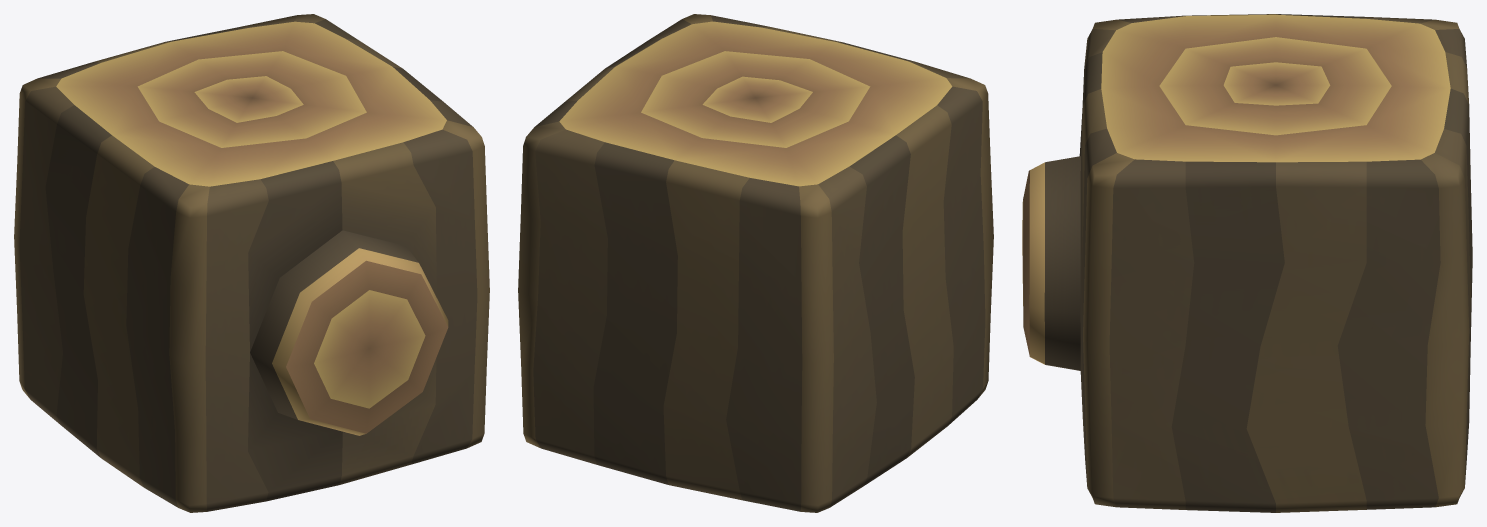
Rendered from wooden_cubes5.fbx.
3 renders of one model, left to right at view 1: azimuth 30°, elevation 25°; view 2: azimuth 150°, elevation 25°; view 3: azimuth 270°, elevation 25°, orthographic. The views are drawn at different scales.
Visible parts, largest first — view 1: wooden_cubes5; view 2: wooden_cubes5; view 3: wooden_cubes5.
Part boxes in pixels (x1,y1,x2,y2): wooden_cubes5: [14, 14, 489, 512]; wooden_cubes5: [518, 14, 993, 512]; wooden_cubes5: [1022, 14, 1472, 512].
Bounding box in the file's own units: 10860 × 10868 × 12436.
1 material, 1 textured.
